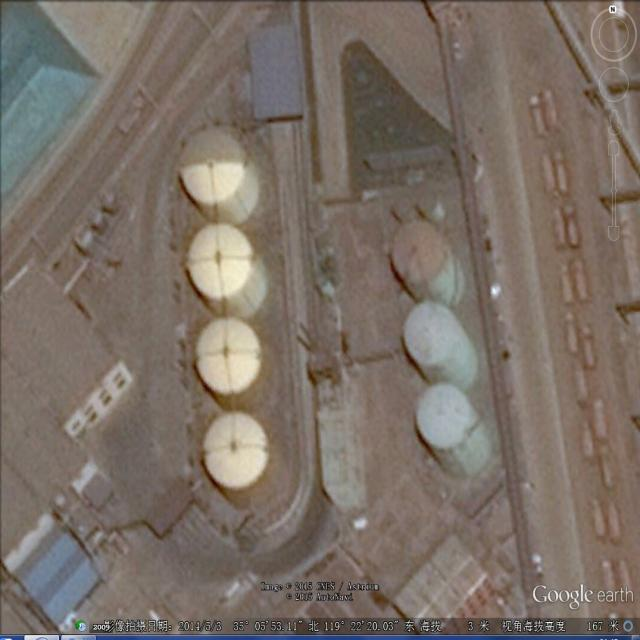oiltank: (183, 218, 273, 322), (174, 126, 264, 224), (399, 301, 483, 401), (197, 412, 281, 510), (414, 382, 498, 480), (194, 315, 274, 414), (387, 217, 468, 312), (412, 187, 449, 226), (391, 193, 423, 227)
